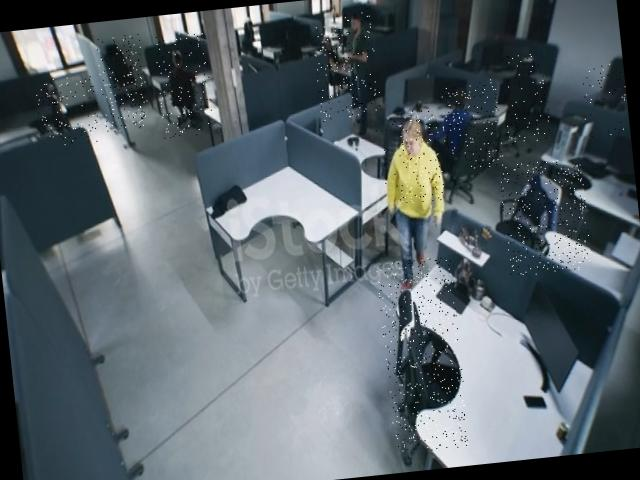empty chair: (376, 256, 470, 455), (498, 158, 592, 278), (96, 34, 150, 132), (34, 74, 102, 148), (500, 53, 552, 145), (376, 123, 406, 186)
occupiedchair: (154, 32, 215, 138), (438, 79, 504, 172), (312, 23, 364, 123), (580, 60, 630, 138)
